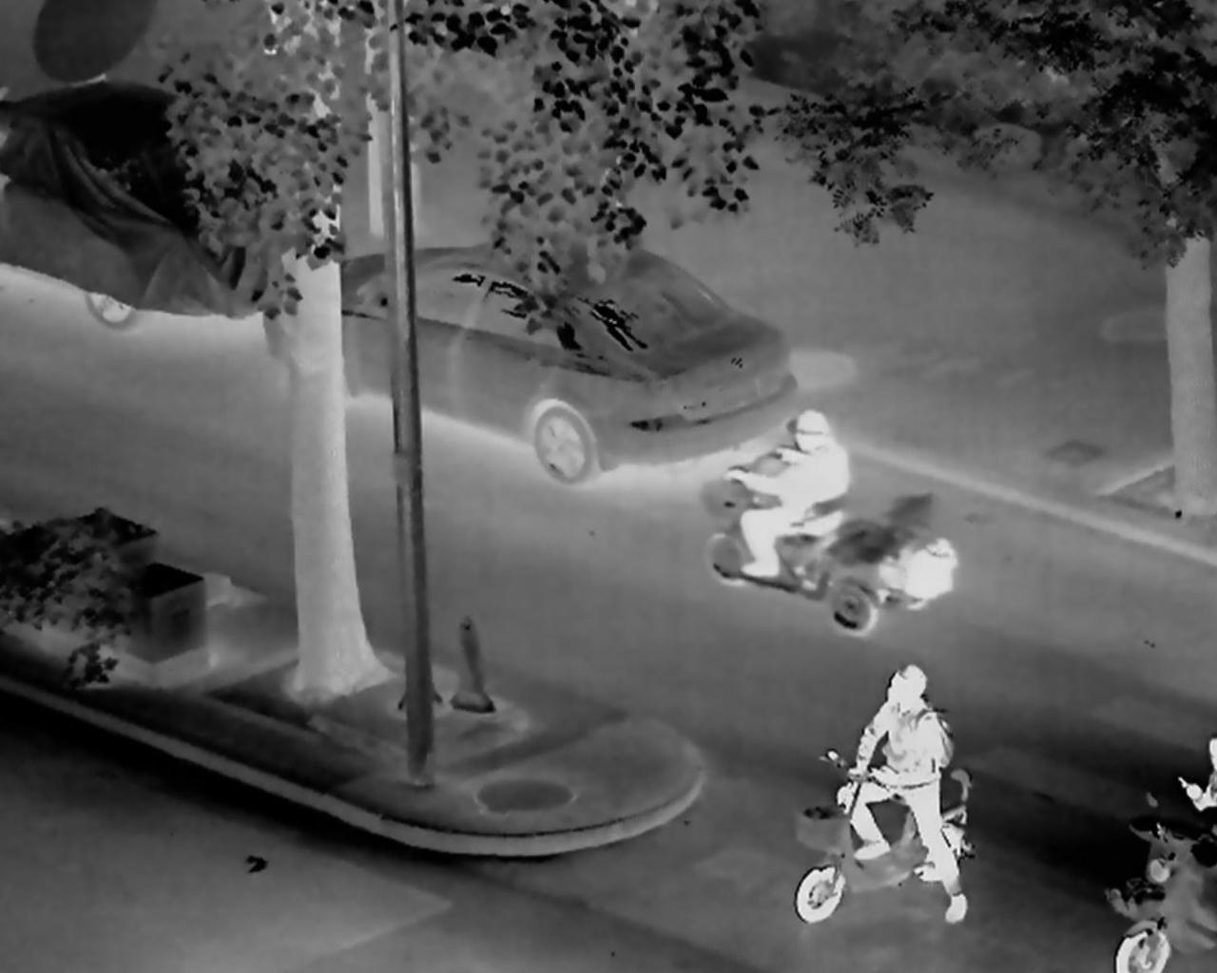person: (836, 663, 967, 925), (728, 411, 846, 577)
